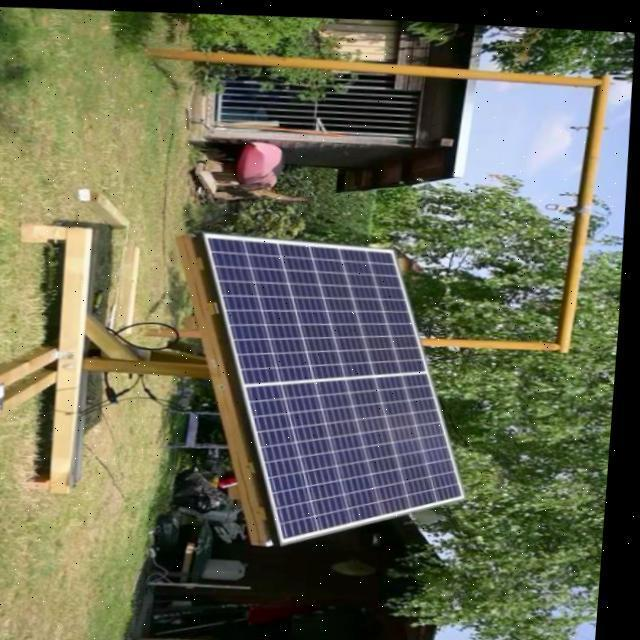Normal Solar Panel: (191, 226, 486, 548)
